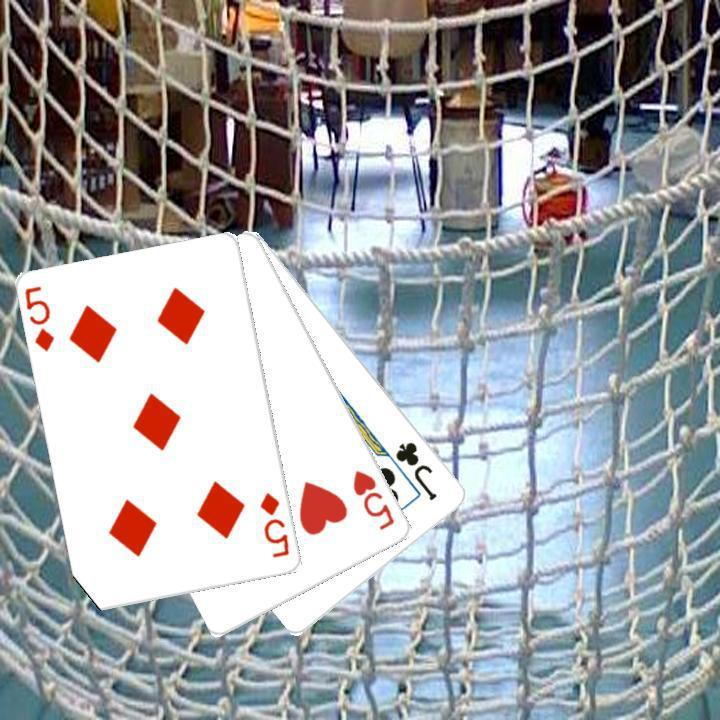5: (348, 466, 397, 533), (20, 282, 57, 354), (256, 488, 292, 560)
J: (391, 437, 440, 503)
